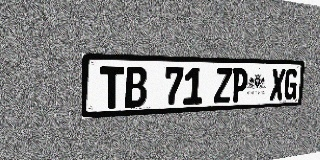1: (183, 67, 203, 105)
7: (163, 67, 184, 106)
B: (124, 67, 147, 108)
G: (283, 69, 298, 100)
P: (231, 68, 248, 102)
T: (100, 66, 124, 109)
X: (270, 69, 285, 100)
Z: (214, 68, 232, 103)
